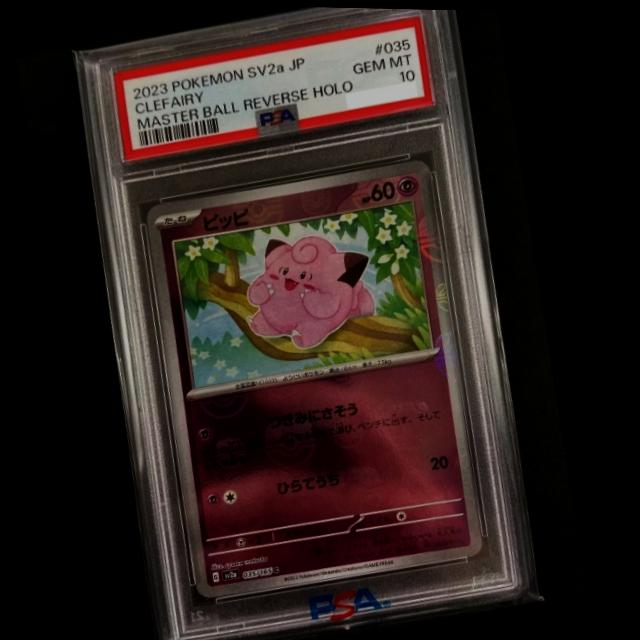card: (149, 155, 490, 598)
psa_label: (112, 12, 436, 161)
psa_slab: (78, 6, 540, 640)
